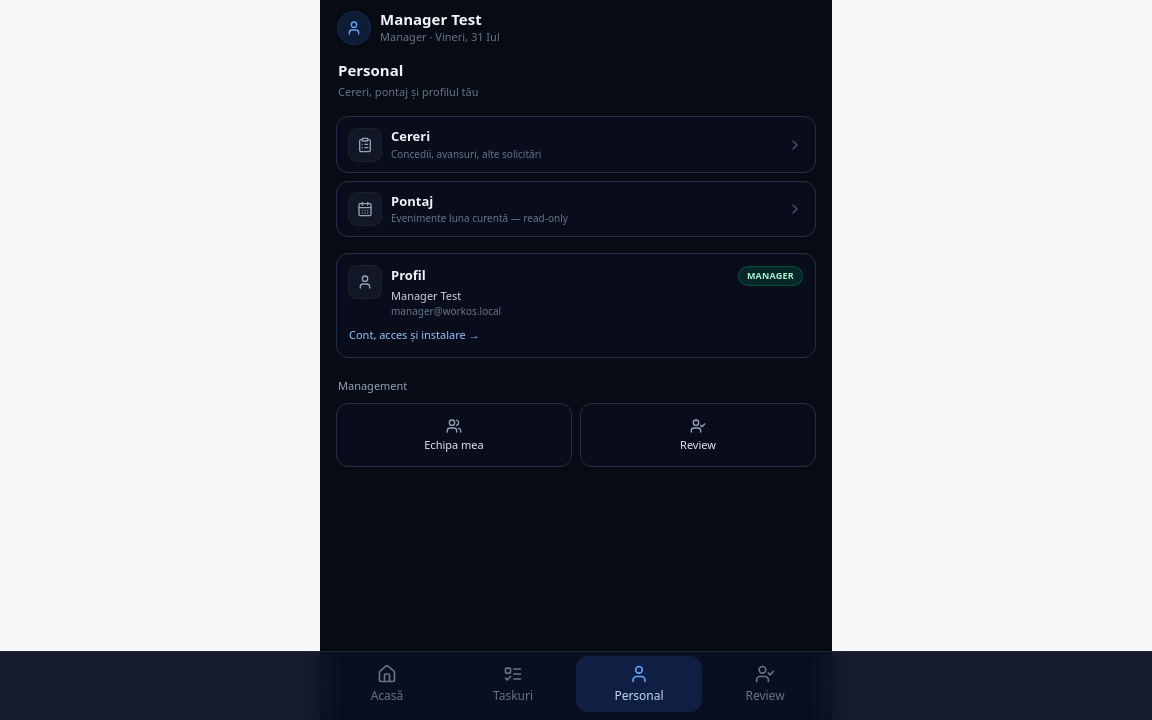
Scenario: EmployeeMobileApp shell › shows Team card for manager role and renders team workspace route
Expected: the text "Echipa mea" is shown, [424, 438, 484, 452]
What coordinates should you click on to do the following:
click the link with test id "employee-mobile-dashboard-team"
I would click on:
 (454, 435)
Its box is [336, 403, 572, 467].
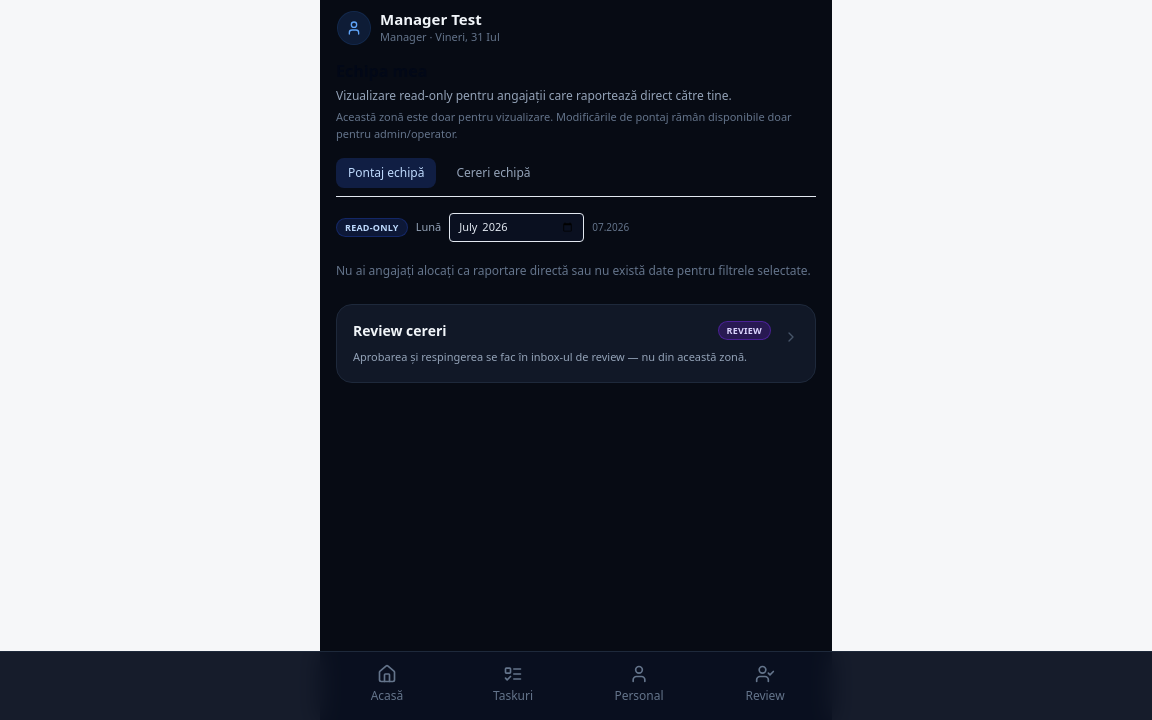
Now the element with test id "employee-manager-team-workspace" is shown, box [336, 59, 816, 383]
